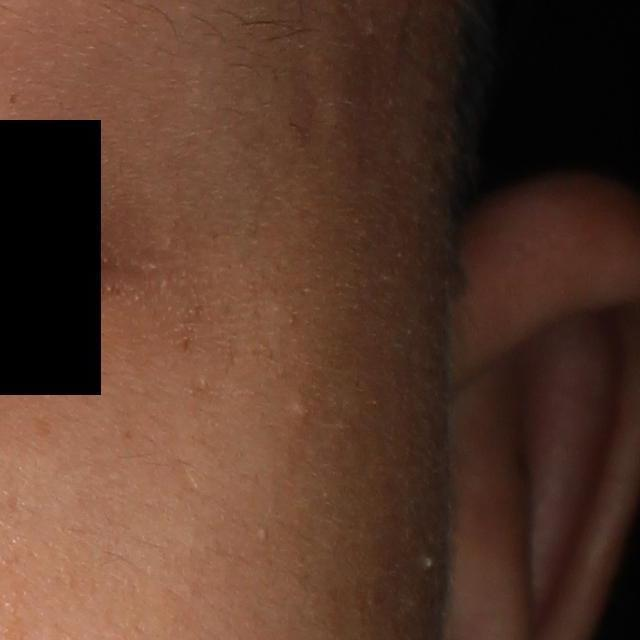comedo: (286, 392, 311, 428)
melasma: (30, 414, 55, 440), (179, 332, 193, 356)
